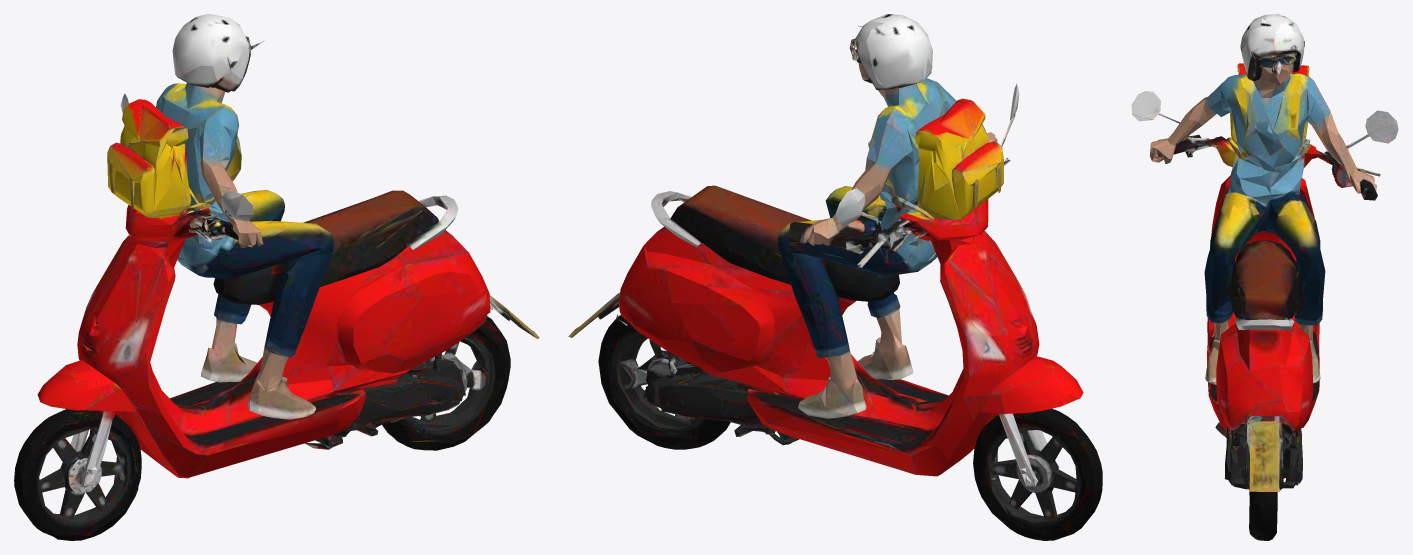
File: xe_may.glb
3 renders of one model, left to right at view 1: azimuth 30°, elevation 25°; view 2: azimuth 150°, elevation 25°; view 3: azimuth 270°, elevation 25°, orthographic. The views are drawn at different scales.
Bounding box in the file's own units: 1.9 × 1.7 × 0.9746.
Materials: 1 (1 with a texture image).
